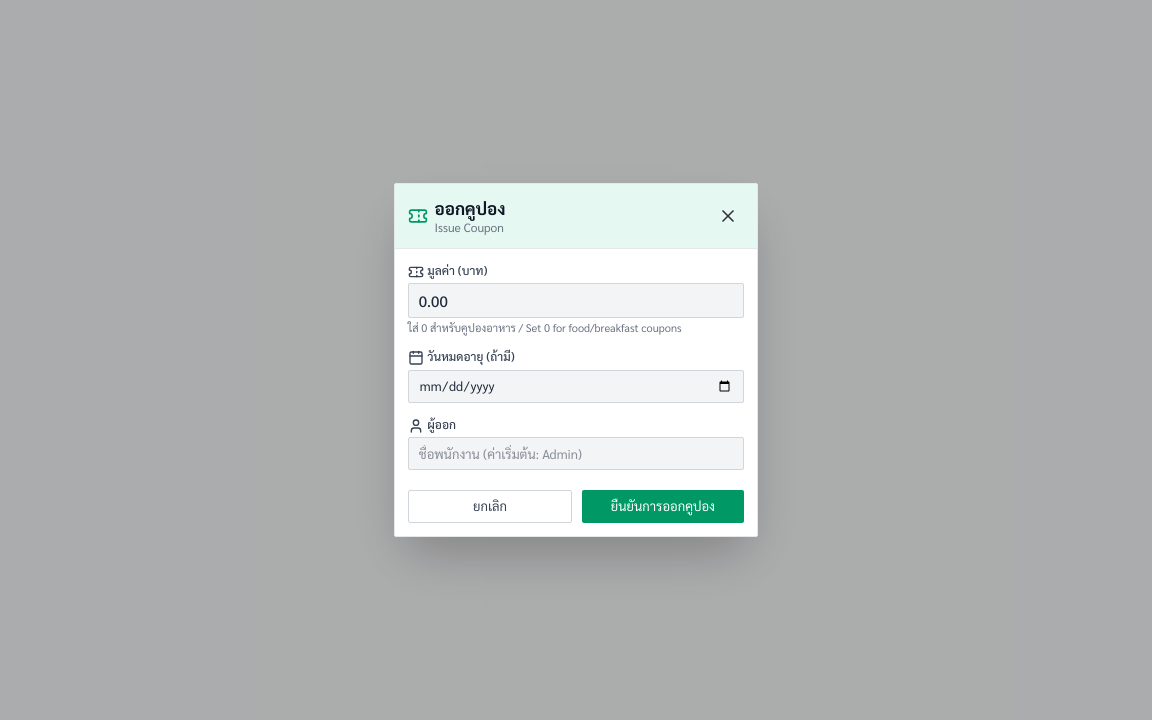
Scenario: IssueCouponModal Component › Submission › surfaces the server error message on failure
The width and height of the screenshot is (1152, 720).
Click the button "ยืนยันการออกคูปอง" at (663, 506), box [582,490,744,523]
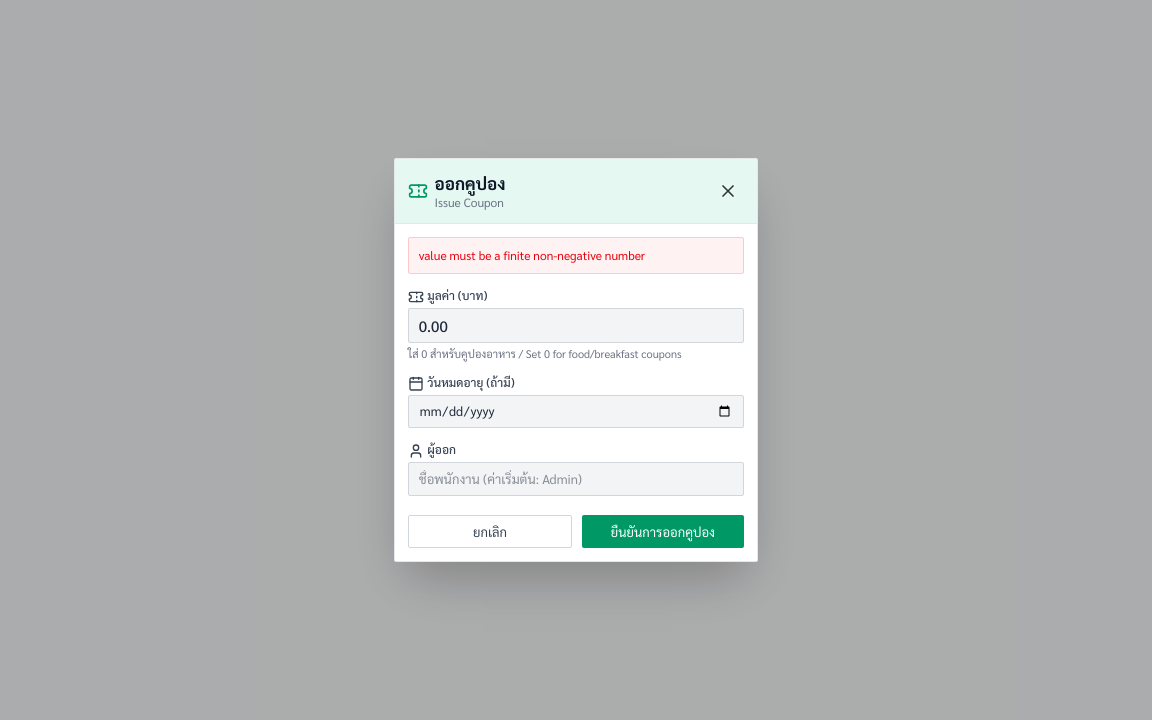
Check: the text "value must be a finite non-negative number" is shown, box [408,237,744,274]
